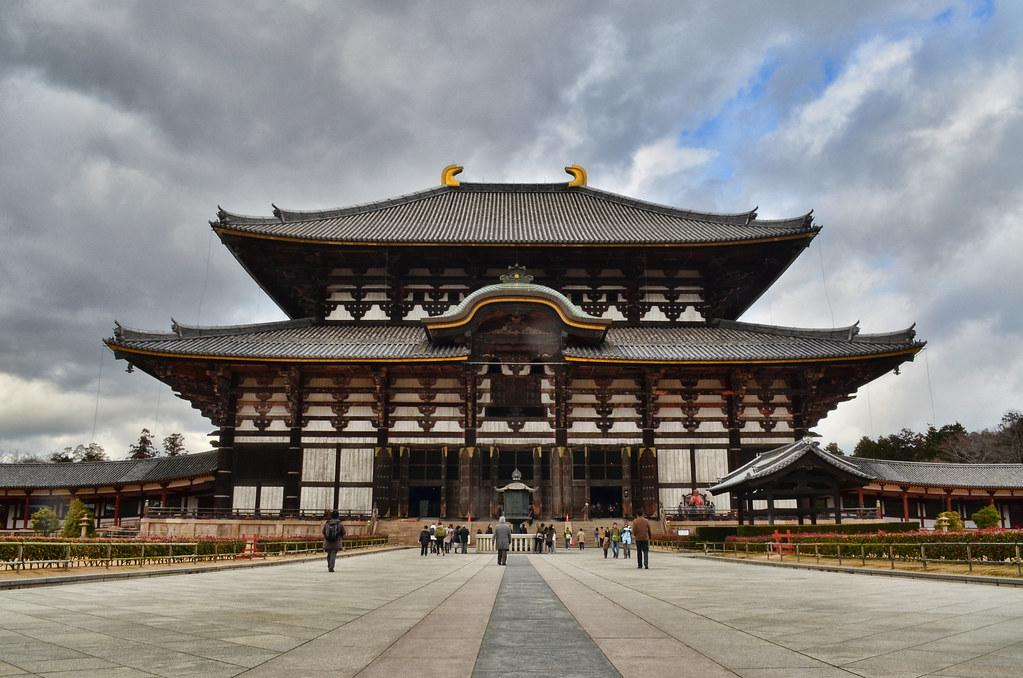temple: (100, 160, 929, 543)
